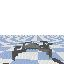drone: (12, 41, 53, 61)
